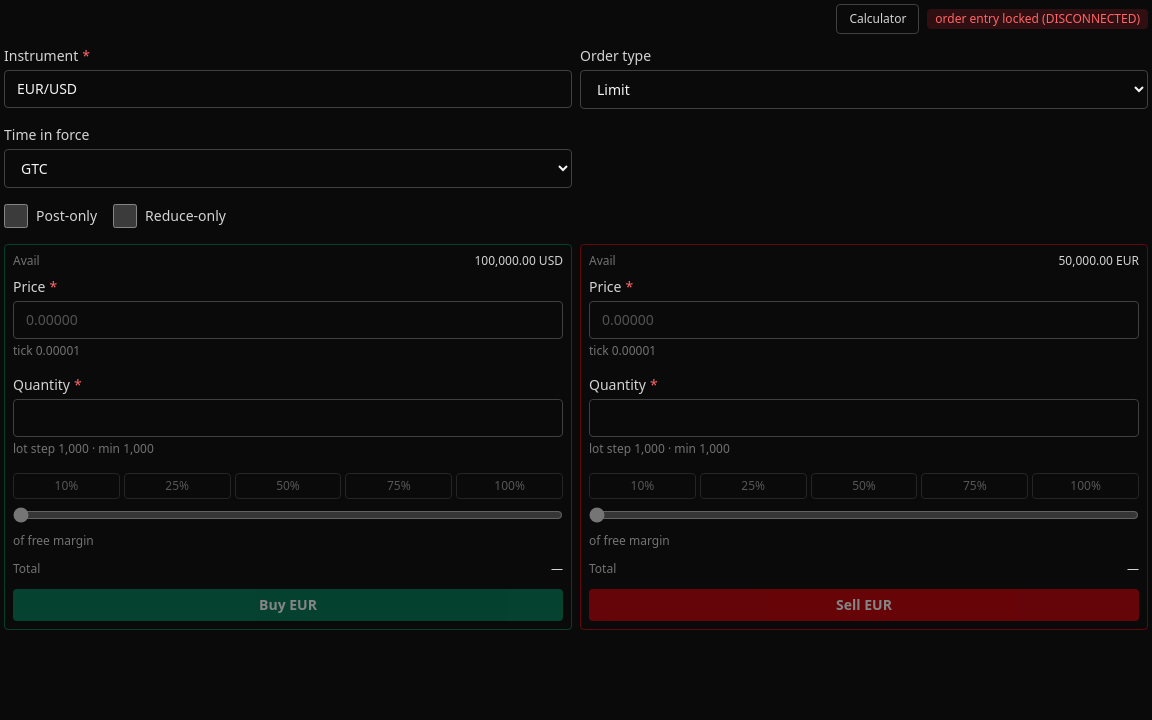
Test case: AdvancedOrderPanel — Binance-style dual columns › keeps OCO on a single column with a side toggle
Expected: the field labelled "Instrument*" holds "EUR/USD", [4,70,572,108]
Select "OCO (one-cancels-other)" in the dropdown labelled "Order type" at (864, 90), box [580,70,1148,109]
(page scrolled)
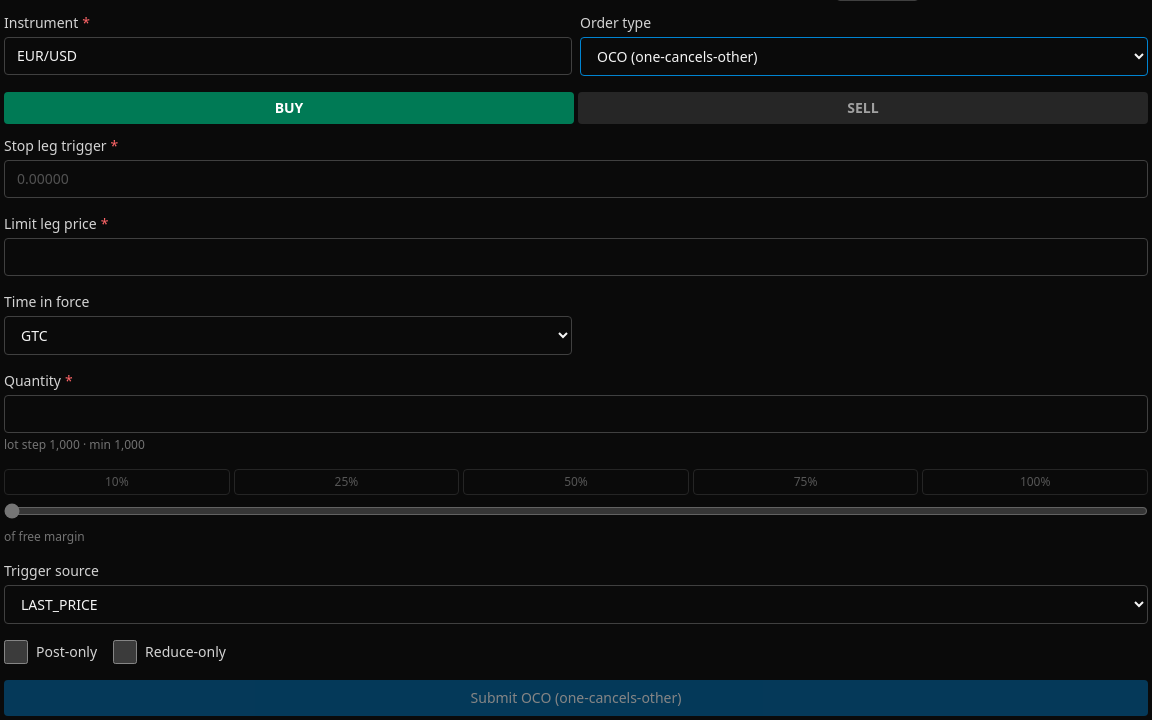
Expected: the button "Submit OCO (one-cancels-other)" is shown, [4,680,1148,716]
